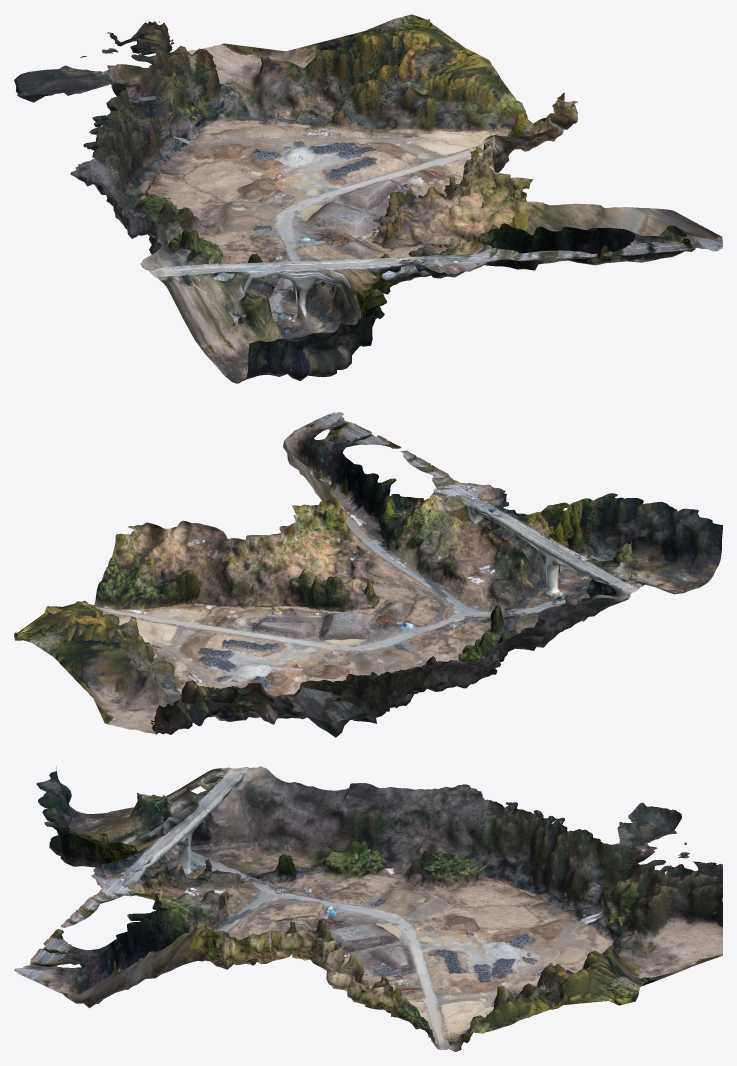
The model's file is kono.glb.
The picture shows the model from 3 angles, top to bottom: view 1: azimuth 30°, elevation 25°; view 2: azimuth 150°, elevation 25°; view 3: azimuth 270°, elevation 25°; orthographic projection. The views are drawn at different scales.
Parts seen in each view (by area): view 1: baked_mesh; view 2: baked_mesh; view 3: baked_mesh.
Boxes of the visible parts, x1,y1,x2,y2 form: baked_mesh: [14, 14, 722, 383]; baked_mesh: [14, 412, 722, 737]; baked_mesh: [14, 766, 722, 1051].
Size of the model in its own units: 320 by 41.6 by 423.
Materials: 1 (1 with a texture image).
